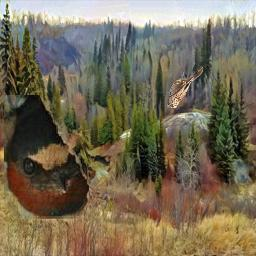Sparrow: (167, 66, 203, 108)
Swallow: (5, 95, 90, 219)
